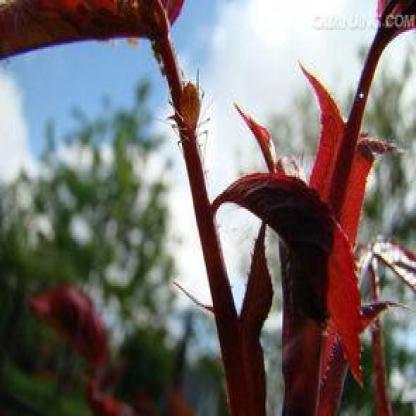aphid: (161, 66, 216, 154)
